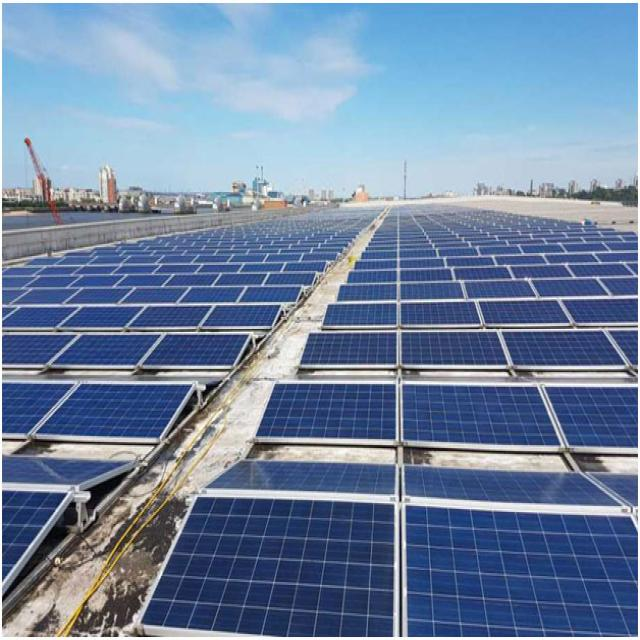clean-solar-panel: (141, 460, 636, 635), (256, 383, 638, 451), (3, 456, 135, 593), (4, 382, 195, 444), (400, 330, 638, 371), (2, 332, 251, 371), (400, 298, 638, 329), (6, 306, 282, 330), (301, 330, 398, 369), (324, 301, 398, 329)
